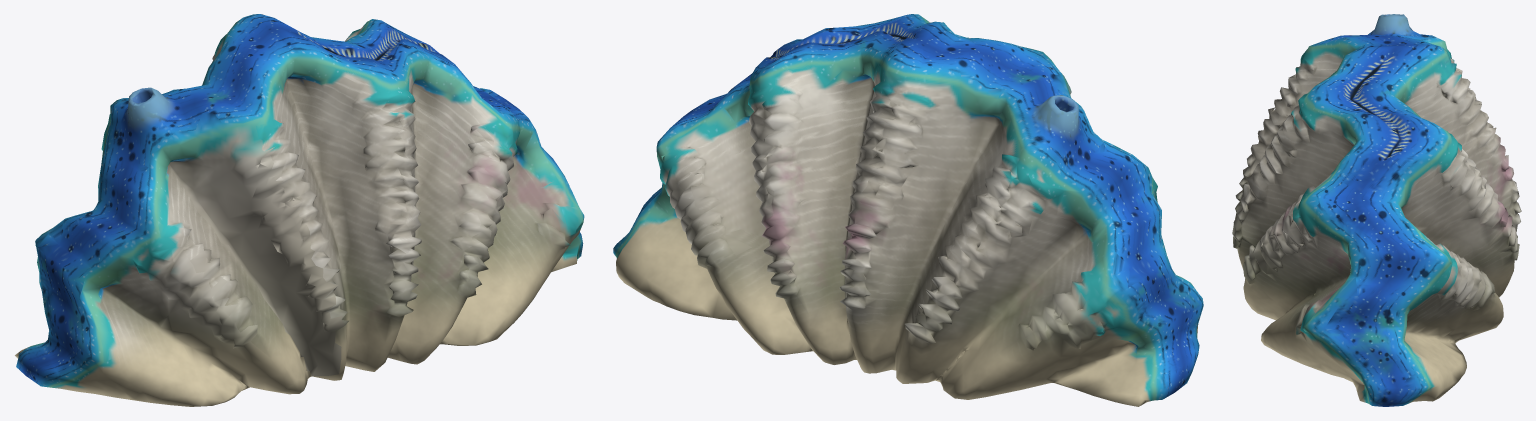
The model's file is GiantClam.gltf.
3 views of the same model, side by side, from view 1: azimuth 30°, elevation 25°; view 2: azimuth 150°, elevation 25°; view 3: azimuth 270°, elevation 25° (orthographic). The views are drawn at different scales.
Parts seen in each view (by area): view 1: GiantClam; view 2: GiantClam; view 3: GiantClam.
Part boxes in pixels (<box>): GiantClam: <box>15,14,584,406</box>; GiantClam: <box>613,14,1203,406</box>; GiantClam: <box>1232,14,1521,406</box>.
Size of the model in its own units: 0.3106 by 0.1569 by 0.1688.
1 material, 1 textured.
